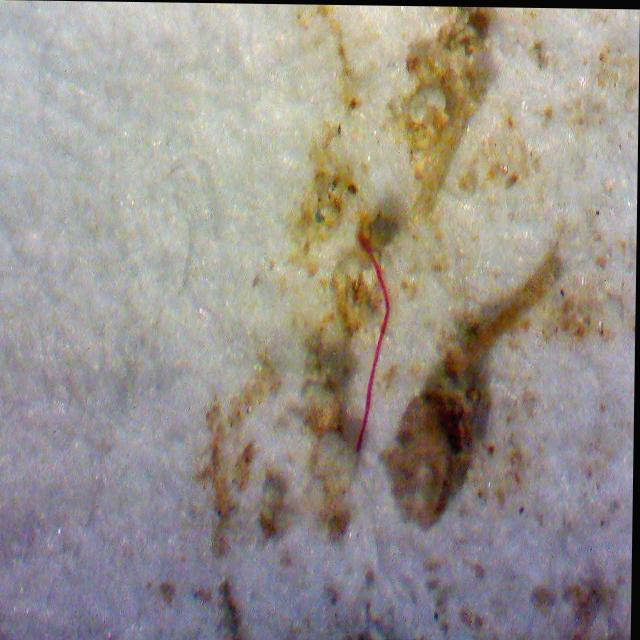microplastic: (346, 235, 396, 451)
